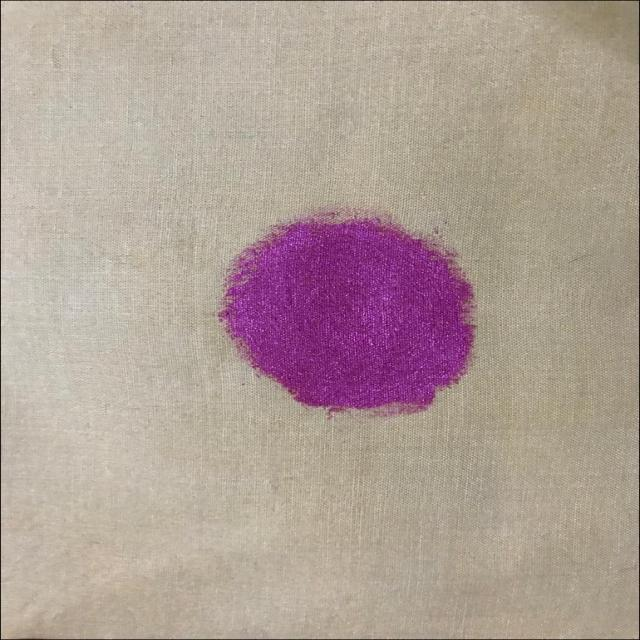Stain: (220, 219, 473, 410)
